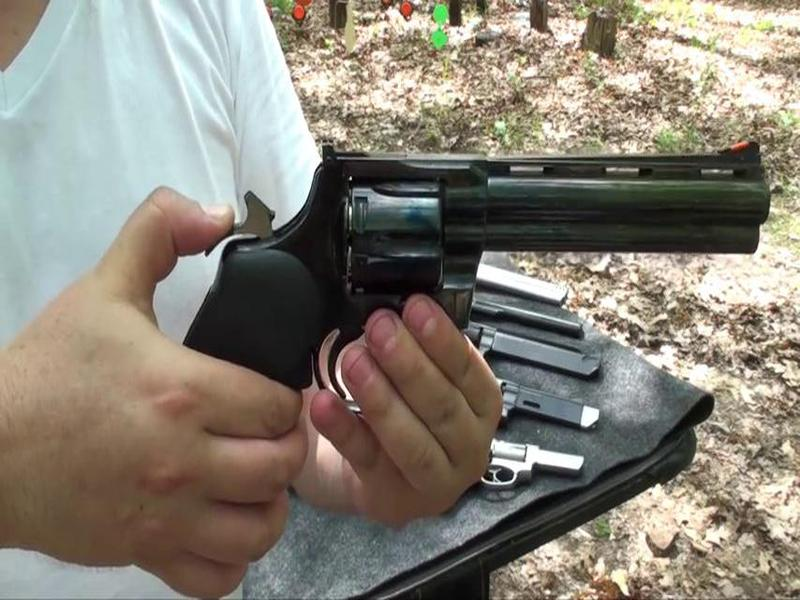Revolver: (189, 97, 777, 379)
